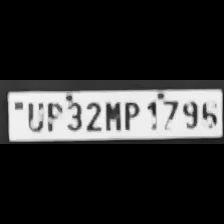1: (142, 97, 160, 131)
2: (82, 98, 102, 132)
3: (64, 100, 82, 132)
7: (159, 97, 179, 131)
9: (178, 98, 200, 130)
M: (102, 98, 120, 132)
P: (120, 98, 140, 132), (43, 99, 62, 133)
U: (26, 100, 44, 132)
